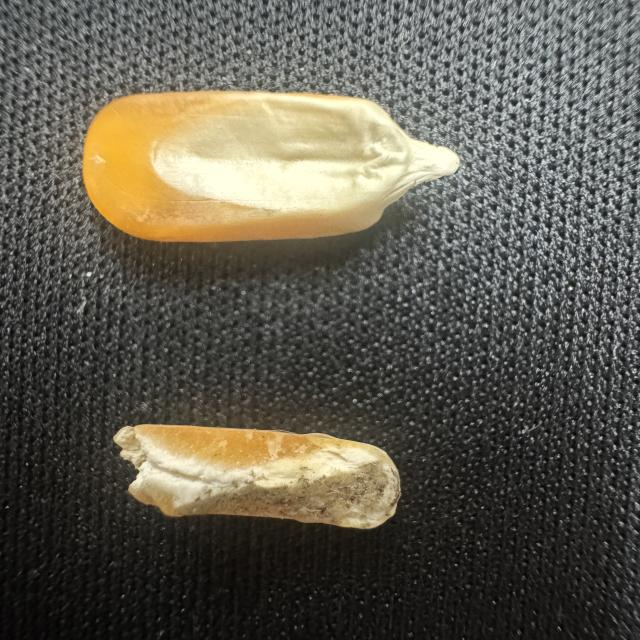Bad-Seed: (106, 416, 408, 545)
Good-Seed: (74, 82, 468, 250)
